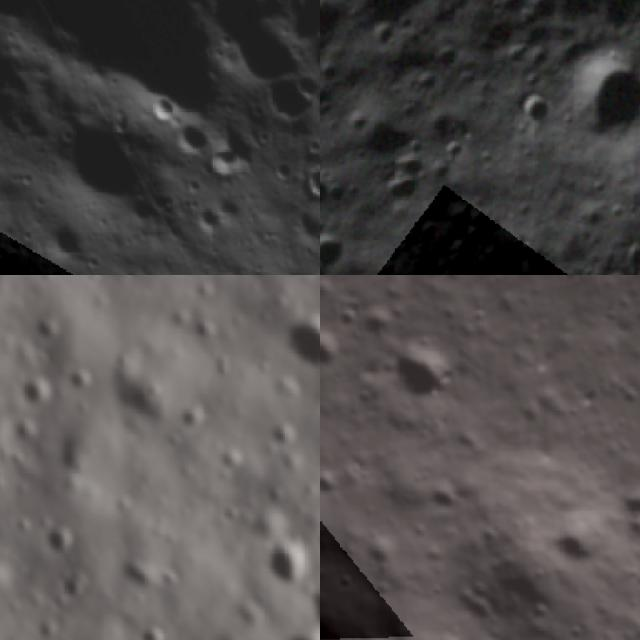crater: (30, 94, 160, 231), (530, 23, 640, 165), (371, 316, 479, 424), (359, 128, 450, 225), (536, 492, 626, 583), (239, 506, 320, 600), (338, 0, 461, 50), (266, 285, 320, 391), (0, 215, 64, 275), (37, 554, 98, 616), (413, 469, 474, 531), (4, 360, 62, 419), (344, 296, 403, 354), (178, 193, 235, 250), (133, 79, 190, 135), (503, 82, 558, 139), (320, 0, 370, 62), (165, 108, 220, 162), (32, 512, 82, 560), (320, 217, 360, 275), (320, 317, 353, 386), (291, 562, 320, 639), (320, 156, 348, 229), (283, 197, 320, 250), (609, 477, 640, 538), (289, 149, 320, 209), (121, 608, 173, 640), (279, 616, 320, 640)
